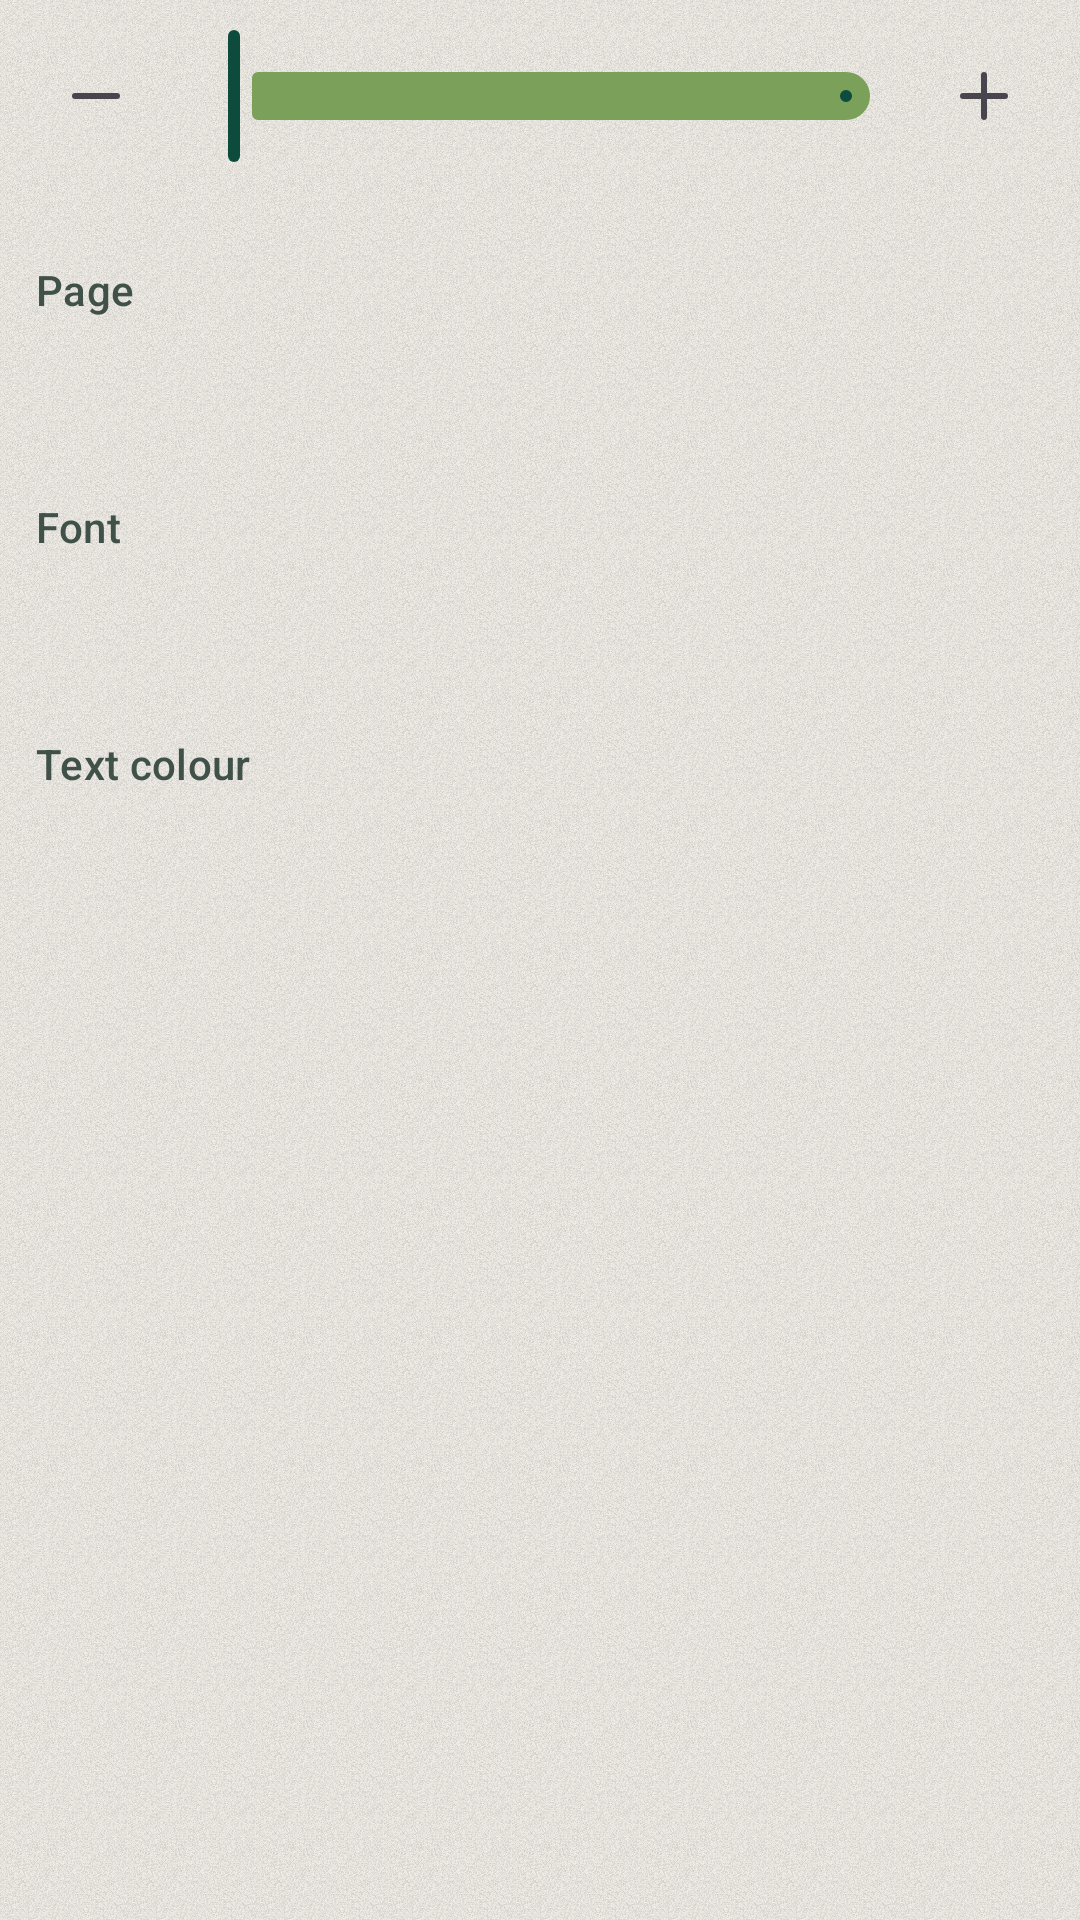

Where icons sit on this 1080 × 1920 app screen, as bbox=(x1, y1, x2, y2):
Larger text: bbox=(960, 72, 1008, 120)
